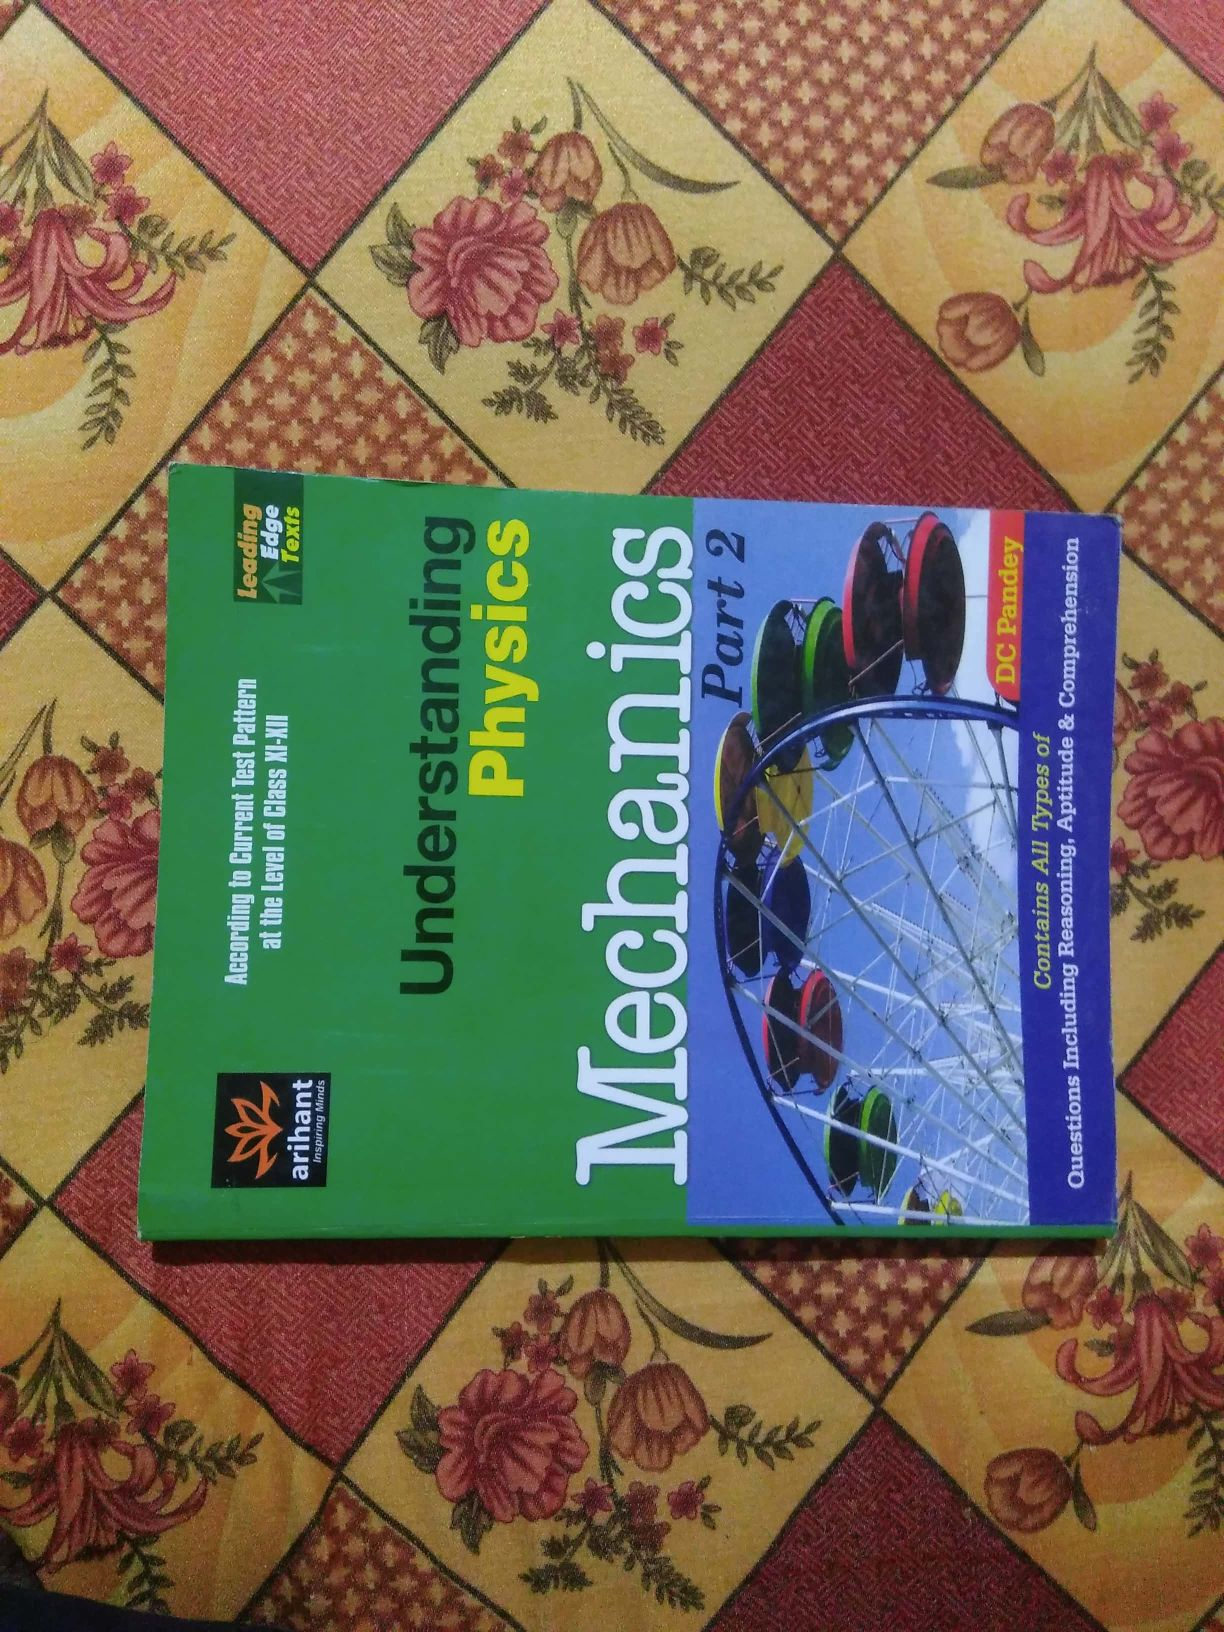mechanics: (76, 404, 1149, 1322)
